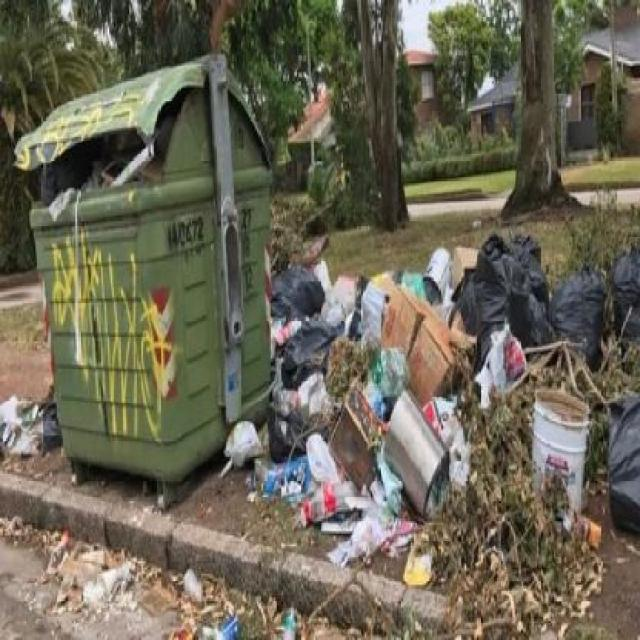garbage: (263, 236, 636, 639), (33, 502, 279, 638), (28, 143, 162, 216), (222, 398, 269, 500), (3, 392, 67, 463)
